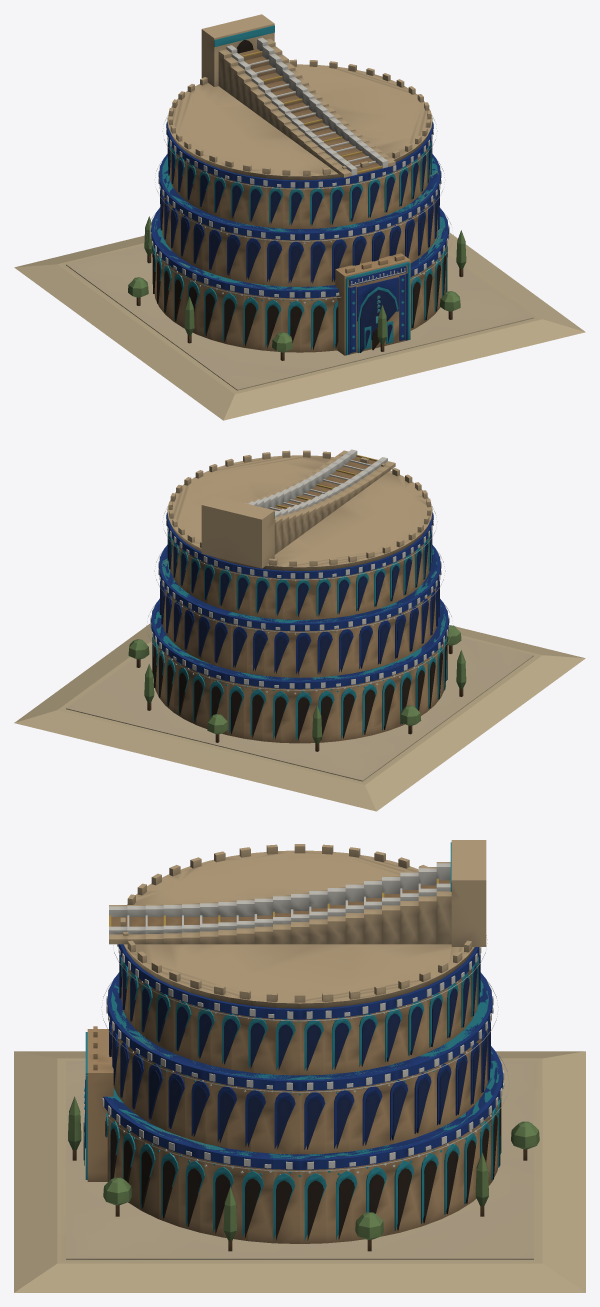
The model's file is observatory.glb.
3 views of the same model, one above another, from view 1: azimuth 30°, elevation 25°; view 2: azimuth 150°, elevation 25°; view 3: azimuth 270°, elevation 25° (orthographic). The views are drawn at different scales.
Visible parts, largest first — view 1: p1_building, p0_hill, p2_meridian arc; view 2: p1_building, p0_hill, p2_meridian arc; view 3: p1_building, p0_hill, p2_meridian arc.
Boxes of the visible parts, <box> form: p1_building: <box>146,59,453,352</box>; p0_hill: <box>14,216,585,420</box>; p2_meridian arc: <box>201,14,410,355</box>; p1_building: <box>146,450,453,743</box>; p0_hill: <box>14,623,585,811</box>; p2_meridian arc: <box>201,449,395,568</box>; p1_building: <box>97,844,509,1243</box>; p0_hill: <box>14,1051,585,1292</box>; p2_meridian arc: <box>83,840,486,1181</box>.
Size of the model in its own units: 66 by 39.7 by 66.
